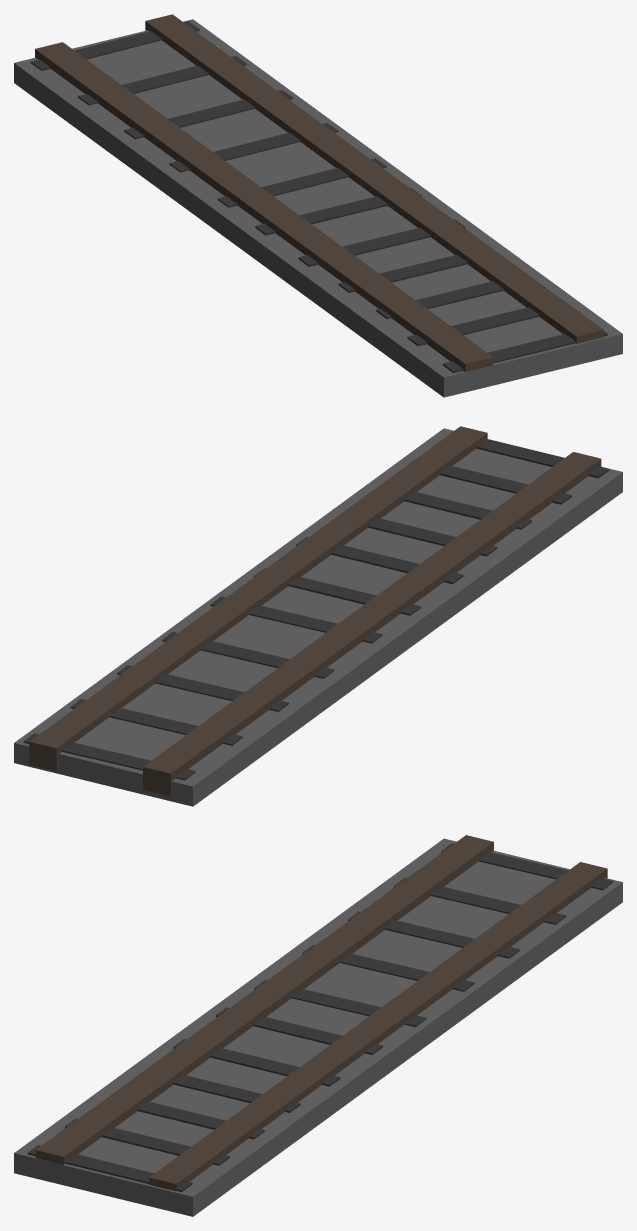
File: Ladder.fbx
3 views of the same model, one above another, from view 1: azimuth 30°, elevation 25°; view 2: azimuth 150°, elevation 25°; view 3: azimuth 330°, elevation 25° (orthographic).
Parts seen in each view (by area): view 1: group5_pasted__group3_pasted__pasted__group_pasted__pasted__; view 2: group5_pasted__group3_pasted__pasted__group_pasted__pasted__; view 3: group5_pasted__group3_pasted__pasted__group_pasted__pasted__.
Boxes of the visible parts, x1,y1,x2,y2 form: group5_pasted__group3_pasted__pasted__group_pasted__pasted__: [14, 14, 622, 397]; group5_pasted__group3_pasted__pasted__group_pasted__pasted__: [14, 426, 622, 806]; group5_pasted__group3_pasted__pasted__group_pasted__pasted__: [14, 835, 622, 1216].
Bounding box in the file's own units: 0.0593 × 0.00895 × 0.2479.
